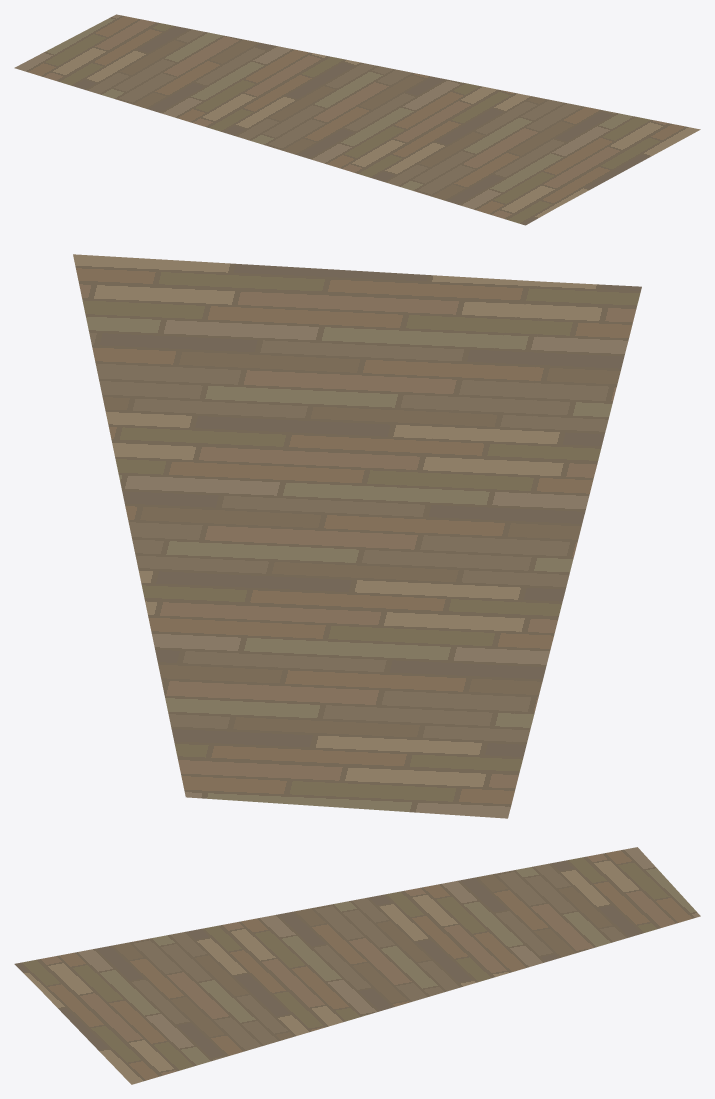
File: kd_stage_136599_16_14_bounded.glb
3 views of the same model, one above another, from view 1: azimuth 30°, elevation 25°; view 2: azimuth 150°, elevation 25°; view 3: azimuth 270°, elevation 25° (orthographic). The views are drawn at different scales.
Parts seen in each view (by area): view 1: kd_stage_136599_16_14_bounded; view 2: kd_stage_136599_16_14_bounded; view 3: kd_stage_136599_16_14_bounded.
Boxes of the visible parts, x1,y1,x2,y2 form: kd_stage_136599_16_14_bounded: (14, 14, 700, 225); kd_stage_136599_16_14_bounded: (73, 254, 641, 818); kd_stage_136599_16_14_bounded: (14, 847, 700, 1084).
Size of the model in its own units: 6.14 by 0 by 7.5.
Materials: 1 (1 with a texture image).
